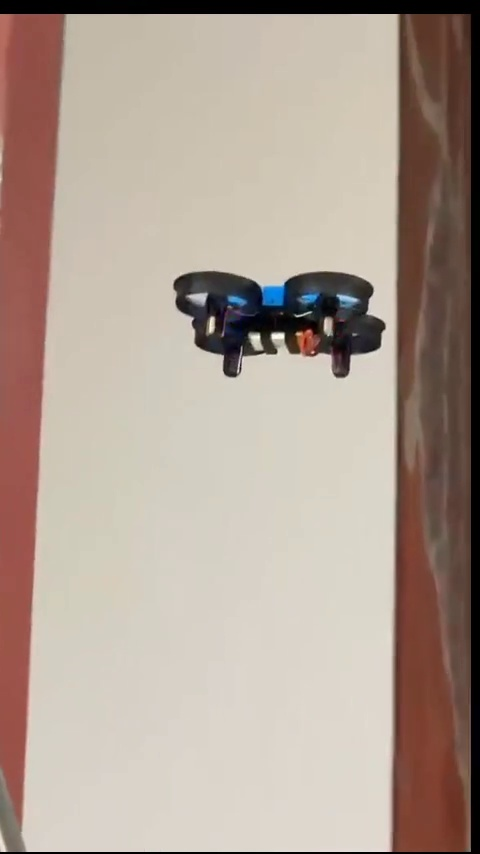drone: (173, 274, 385, 377)
